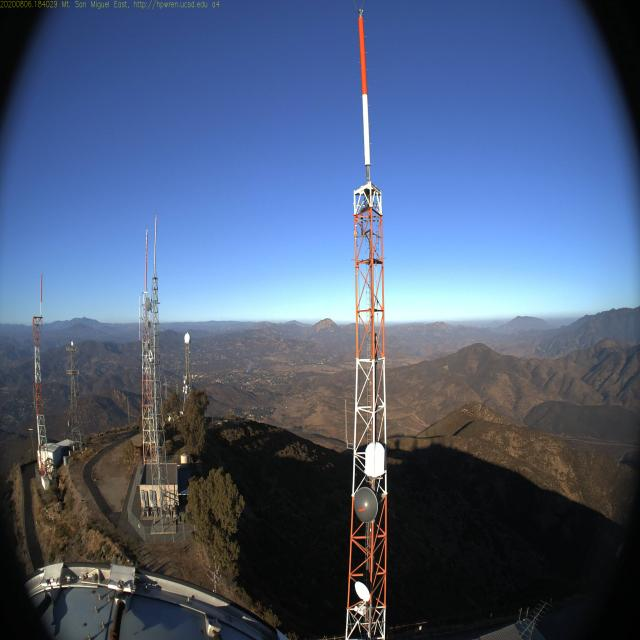smoke: (240, 350, 260, 380)
